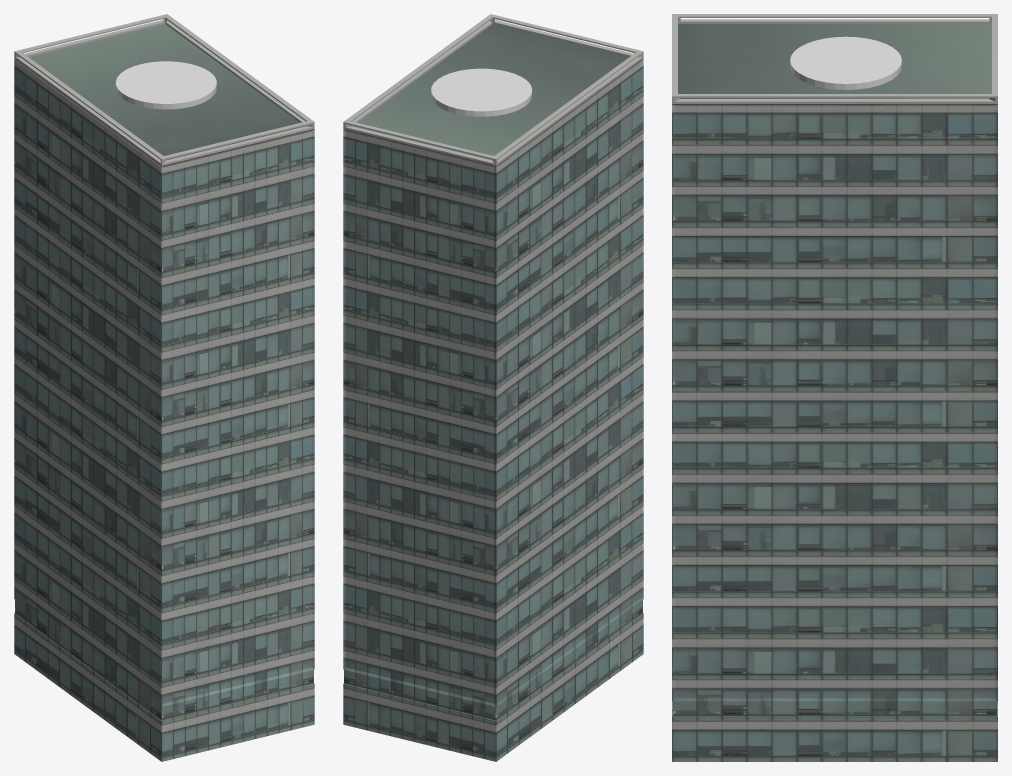
Rendered from WhyNot_Building_Low.fbx.
The picture shows the model from 3 angles, left to right: view 1: azimuth 30°, elevation 25°; view 2: azimuth 150°, elevation 25°; view 3: azimuth 270°, elevation 25°; orthographic projection. The views are drawn at different scales.
Visible parts, largest first — view 1: Low; view 2: Low; view 3: Low.
Part boxes in pixels (bbox=[...]): Low: bbox=[14, 14, 314, 761]; Low: bbox=[343, 14, 643, 761]; Low: bbox=[672, 14, 997, 761].
Size of the model in its own units: 6159 by 23176 by 10285.
